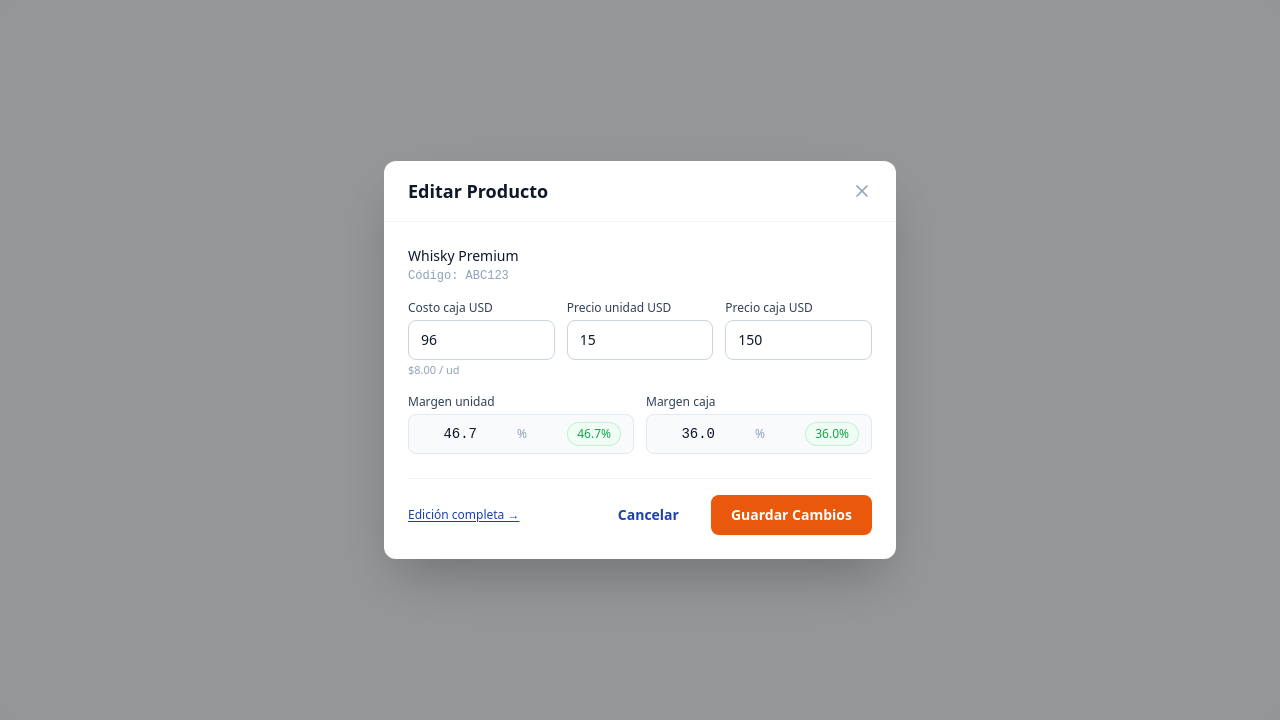
Test: QuickEditModal › resets margin caja input to calculated value on blur
// Type a value then blur
Replace the text in the field next to "36.0%" with "25" at (687, 434), box [659,424,715,444]
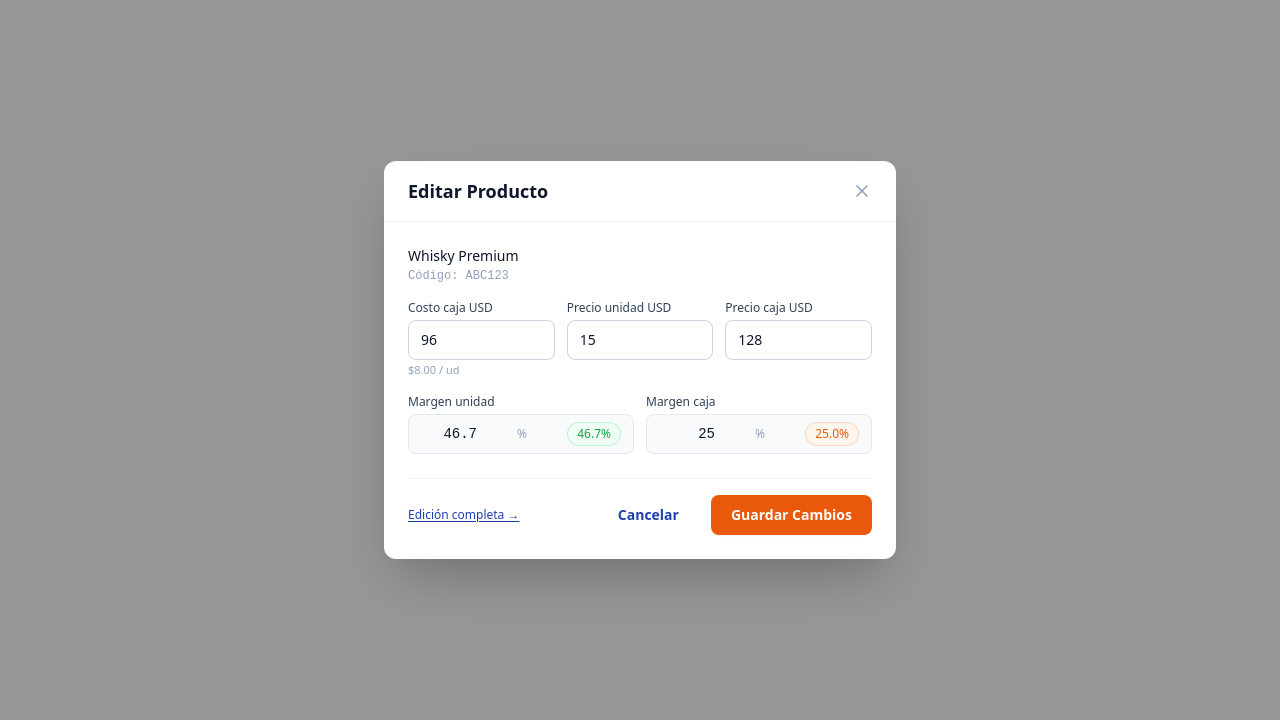
Press Tab
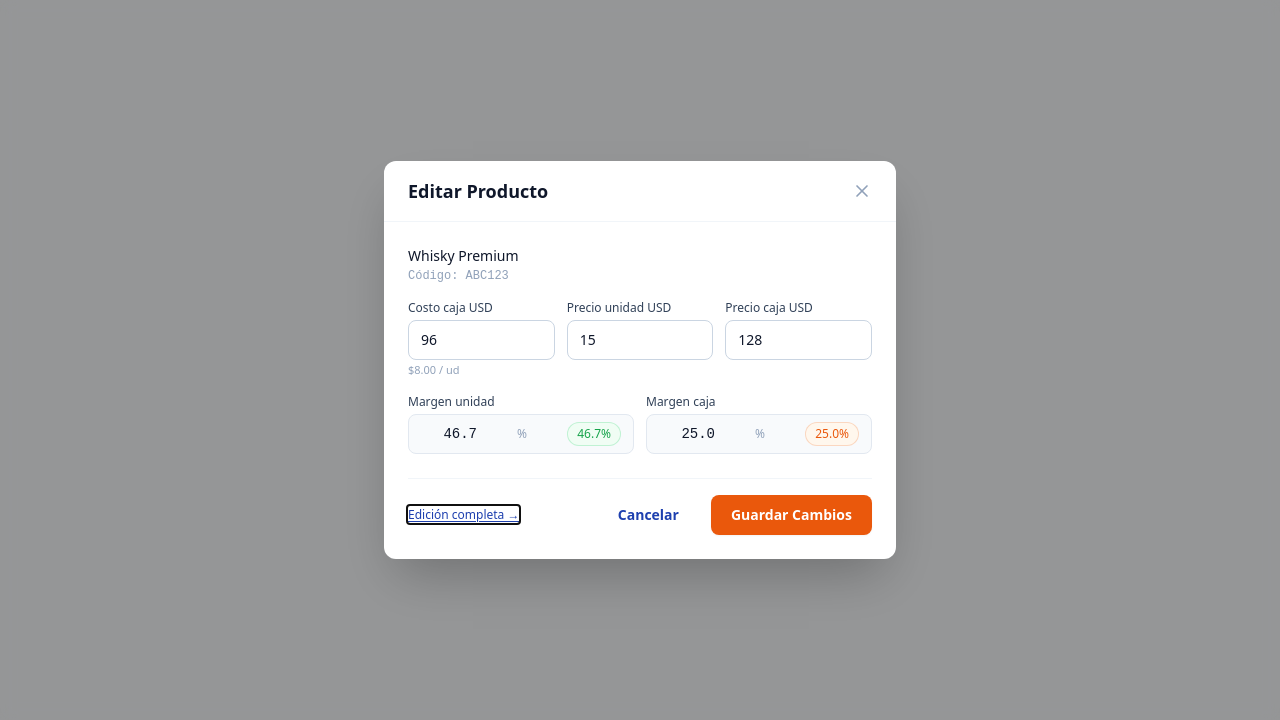
Expected: the field next to "25.0%" holds "25.0", [659,424,715,444]
